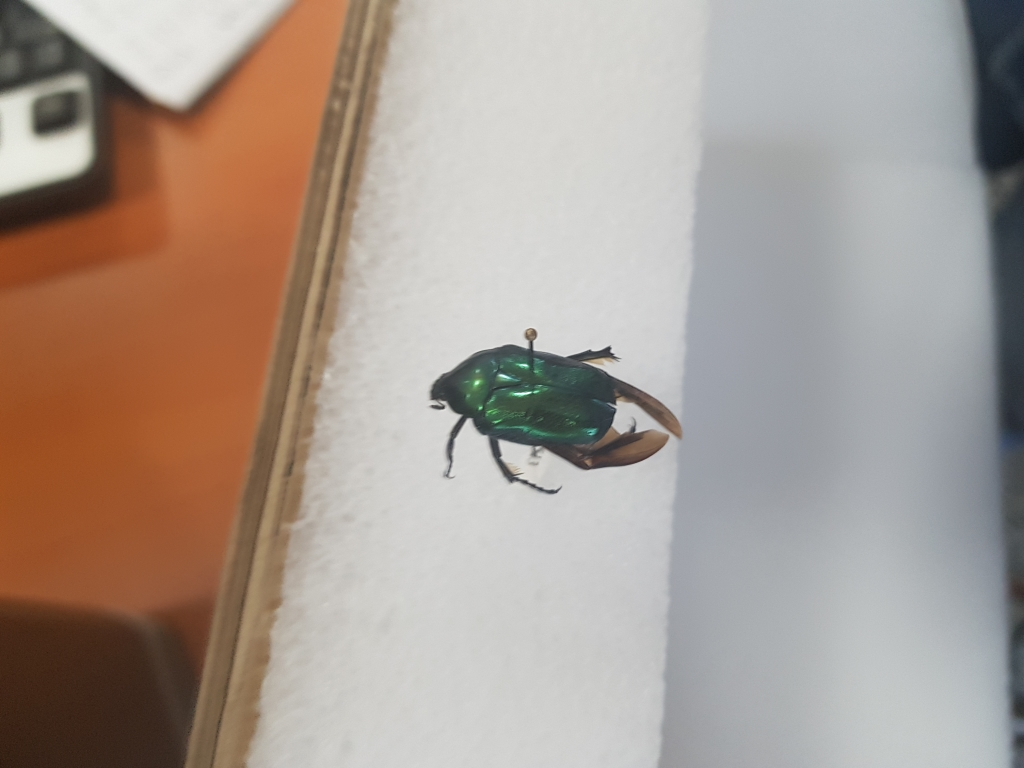Protaetia_angustata_angustata: (431, 334, 630, 497)
